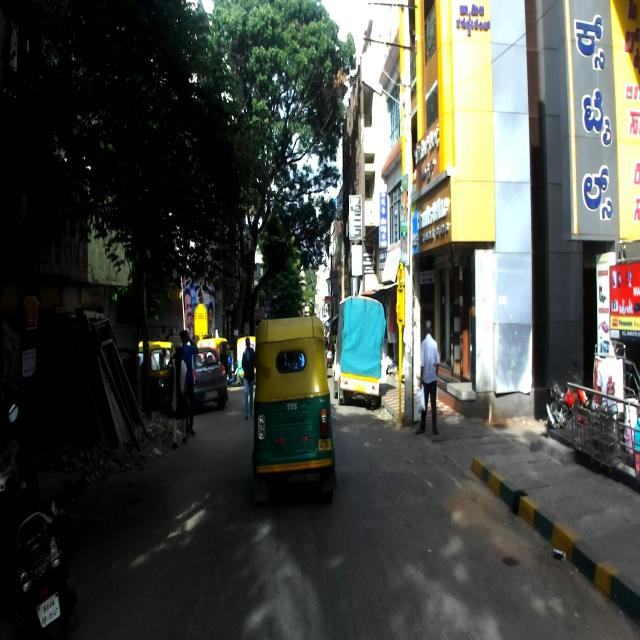Car_Toyota: (165, 346, 228, 411)
autorickshaw: (252, 316, 337, 512)
scooter: (0, 399, 76, 638)
